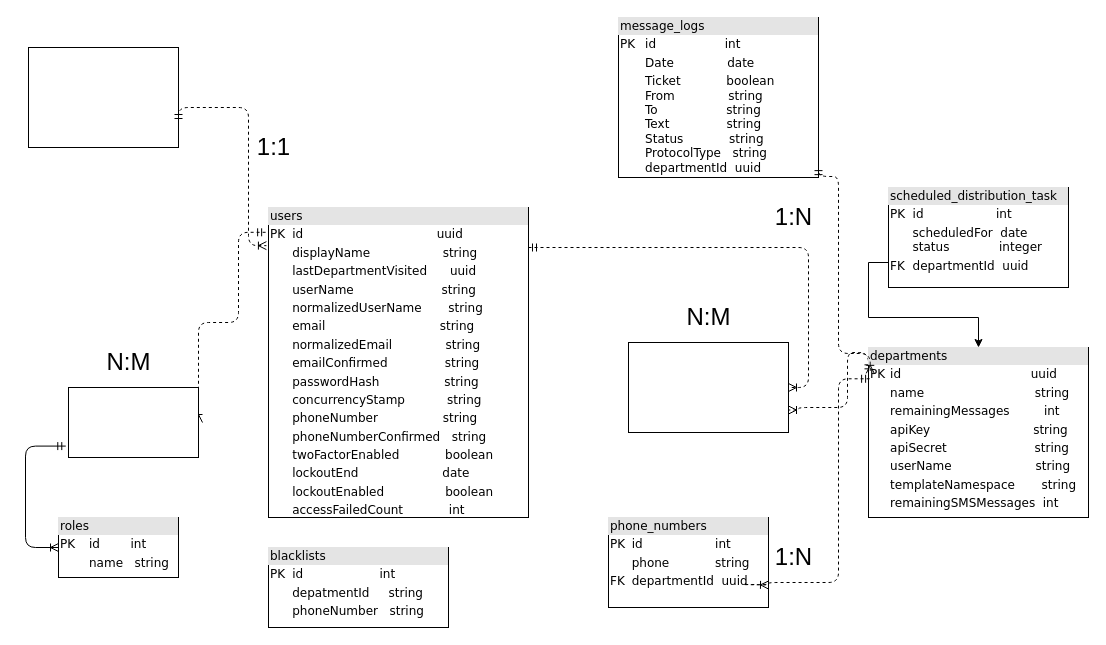
Image size: 1106x645. Some labels were removed from this diagram. The box of each missing label's shape, as (x1, y1, x2, y2) in pixels:
refresh_tokens PK id int token string expires date FK userId uuid: (28, 46, 178, 148)
user_departments PK id int FK userId uuid FK departmentId uuid: (628, 342, 788, 432)
user_roles PK id int FK userId uuid FK roleId int: (68, 386, 198, 458)
